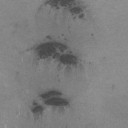iron sheet ash: (34, 41, 78, 66), (43, 0, 84, 19), (38, 90, 69, 106), (32, 100, 43, 114), (46, 35, 52, 40)
